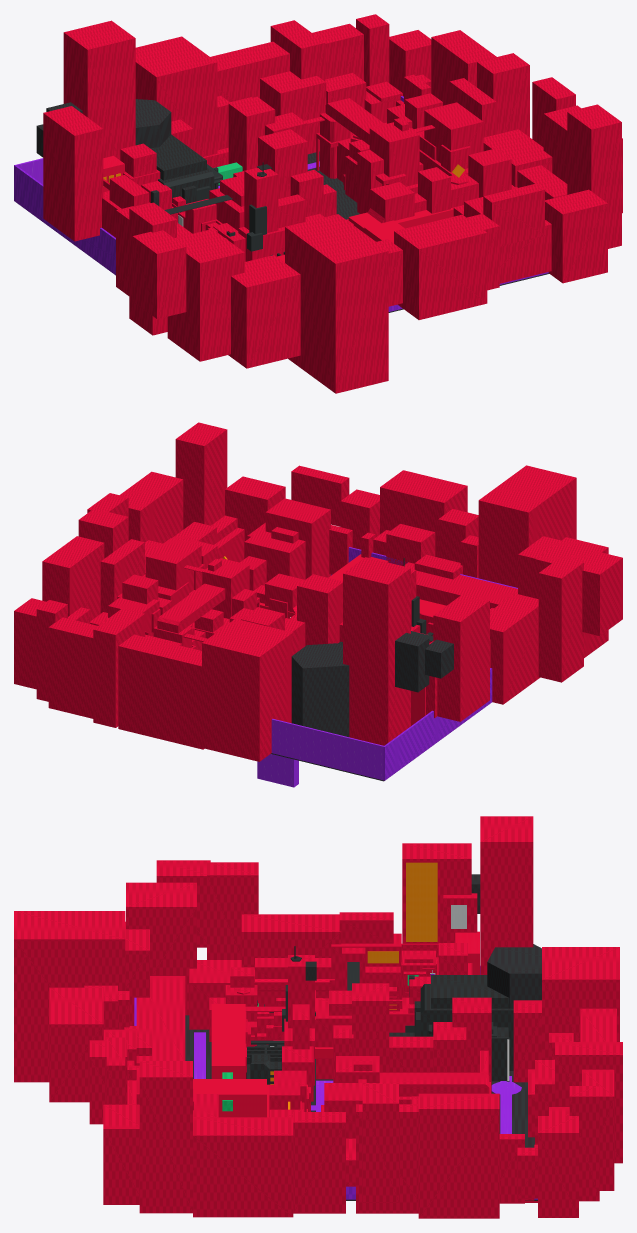
Rendered from OrangeEX.gltf.
3 views of the same model, one above another, from view 1: azimuth 30°, elevation 25°; view 2: azimuth 150°, elevation 25°; view 3: azimuth 270°, elevation 25° (orthographic). The views are drawn at different scales.
Parts seen in each view (by area): view 1: _MeshInstance3D_1164000, _MeshInstance3D_1163958, _MeshInstance3D_1021388, _MeshInstance3D_1021334, _MeshInstance3D_1164006, _MeshInstance3D_1021358, _MeshInstance3D_1163736, _MeshInstance3D_1163850, _MeshInstance3D_1163844, _MeshInstance3D_1021382, _MeshInstance3D_1163886, _MeshInstance3D_1163772 (+50 smaller); view 2: _MeshInstance3D_1163736, _MeshInstance3D_1021388, _MeshInstance3D_1163772, _MeshInstance3D_1164000, _MeshInstance3D_1021334, _MeshInstance3D_1021376, _MeshInstance3D_1021394, _MeshInstance3D_1021364, _MeshInstance3D_1163850, _MeshInstance3D_1163766, _MeshInstance3D_1163958, _MeshInstance3D_49609 (+38 smaller); view 3: _MeshInstance3D_1164000, _MeshInstance3D_1163838, _MeshInstance3D_1163856, _MeshInstance3D_1163850, _MeshInstance3D_1021388, _MeshInstance3D_1163736, _MeshInstance3D_1021358, _MeshInstance3D_1163958, _MeshInstance3D_1163880, _MeshInstance3D_1163886, _MeshInstance3D_1021364, _MeshInstance3D_1021376 (+56 smaller).
Boxes of the visible parts, x1,y1,x2,y2 form: _MeshInstance3D_1164000: (285,214,388,393); _MeshInstance3D_1163958: (394,214,487,319); _MeshInstance3D_1021388: (63,20,135,159); _MeshInstance3D_1021334: (43,106,103,241); _MeshInstance3D_1164006: (228,255,300,368); _MeshInstance3D_1021358: (167,229,244,361); _MeshInstance3D_1163736: (135,36,217,156); _MeshInstance3D_1163850: (567,104,621,248); _MeshInstance3D_1163844: (545,189,607,283); _MeshInstance3D_1021382: (132,230,186,318); _MeshInstance3D_1163886: (477,53,529,137); _MeshInstance3D_1163772: (210,41,289,101); _MeshInstance3D_1163736: (202,618,292,761); _MeshInstance3D_1021388: (343,557,410,745); _MeshInstance3D_1163772: (118,634,204,749); _MeshInstance3D_1164000: (478,465,576,587); _MeshInstance3D_1021334: (433,594,489,721); _MeshInstance3D_1021376: (538,557,583,682); _MeshInstance3D_1021394: (291,643,349,737); _MeshInstance3D_1021364: (490,593,540,704); _MeshInstance3D_1163850: (175,422,227,529); _MeshInstance3D_1163766: (48,617,97,718); _MeshInstance3D_1163958: (380,470,467,557); _MeshInstance3D_49609: (271,718,383,780); _MeshInstance3D_1164000: (14,911,125,1082); _MeshInstance3D_1163838: (418,1093,499,1218); _MeshInstance3D_1163856: (193,1117,293,1217); _MeshInstance3D_1163850: (139,1061,192,1213); _MeshInstance3D_1021388: (480,816,533,974); _MeshInstance3D_1163736: (542,947,619,1059); _MeshInstance3D_1021358: (126,882,196,1015); _MeshInstance3D_1163958: (49,987,103,1102); _MeshInstance3D_1163880: (293,1112,345,1213); _MeshInstance3D_1163886: (362,1084,398,1202); _MeshInstance3D_1021364: (241,914,341,969); _MeshInstance3D_1021376: (207,862,258,959).
Bounding box in the file's own units: 523 × 238 × 519.
